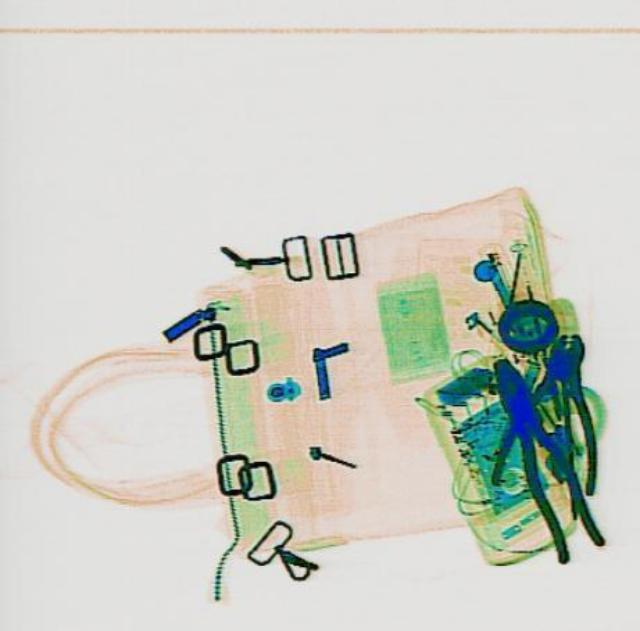Pliers: (474, 348, 608, 565), (488, 325, 616, 494)
